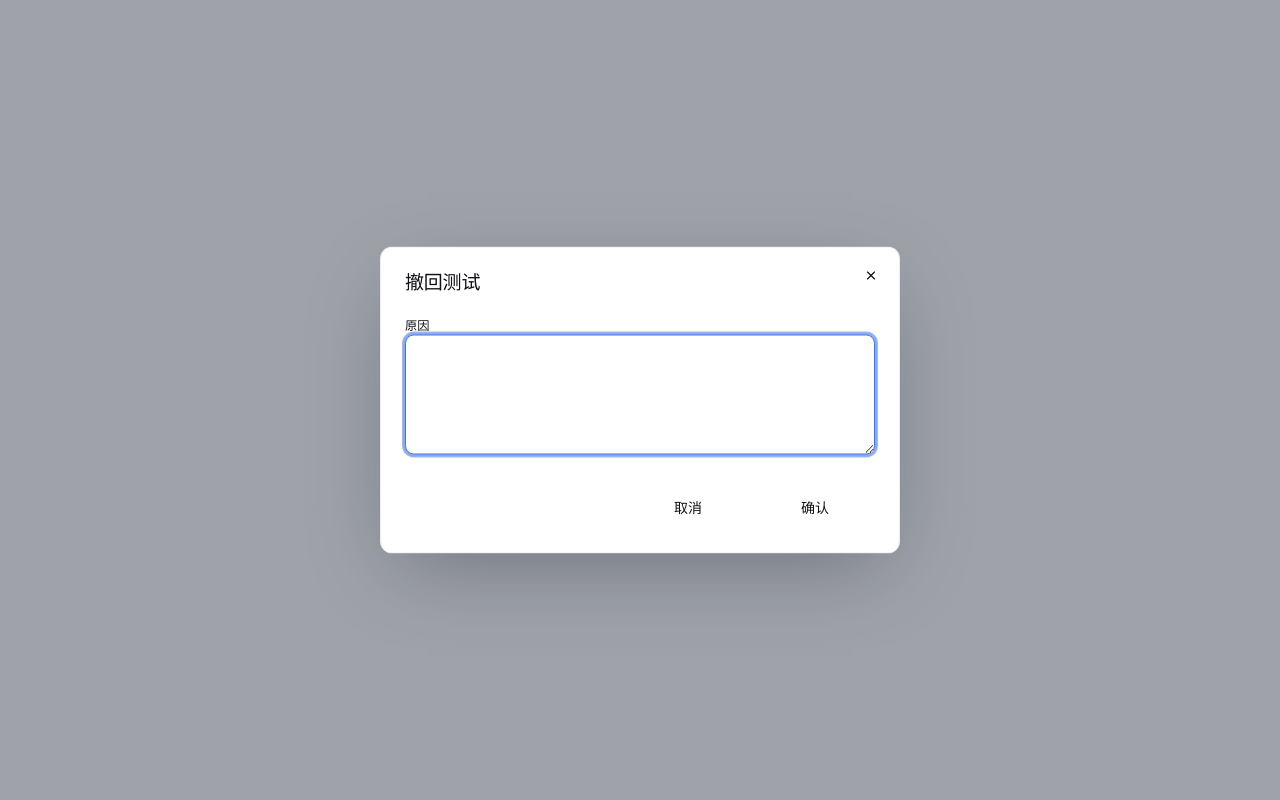
Test case: RequirementActionDialog › 原因类动作要求填写原因
Click the button "确认": click(815, 506) [755,484,875,528]
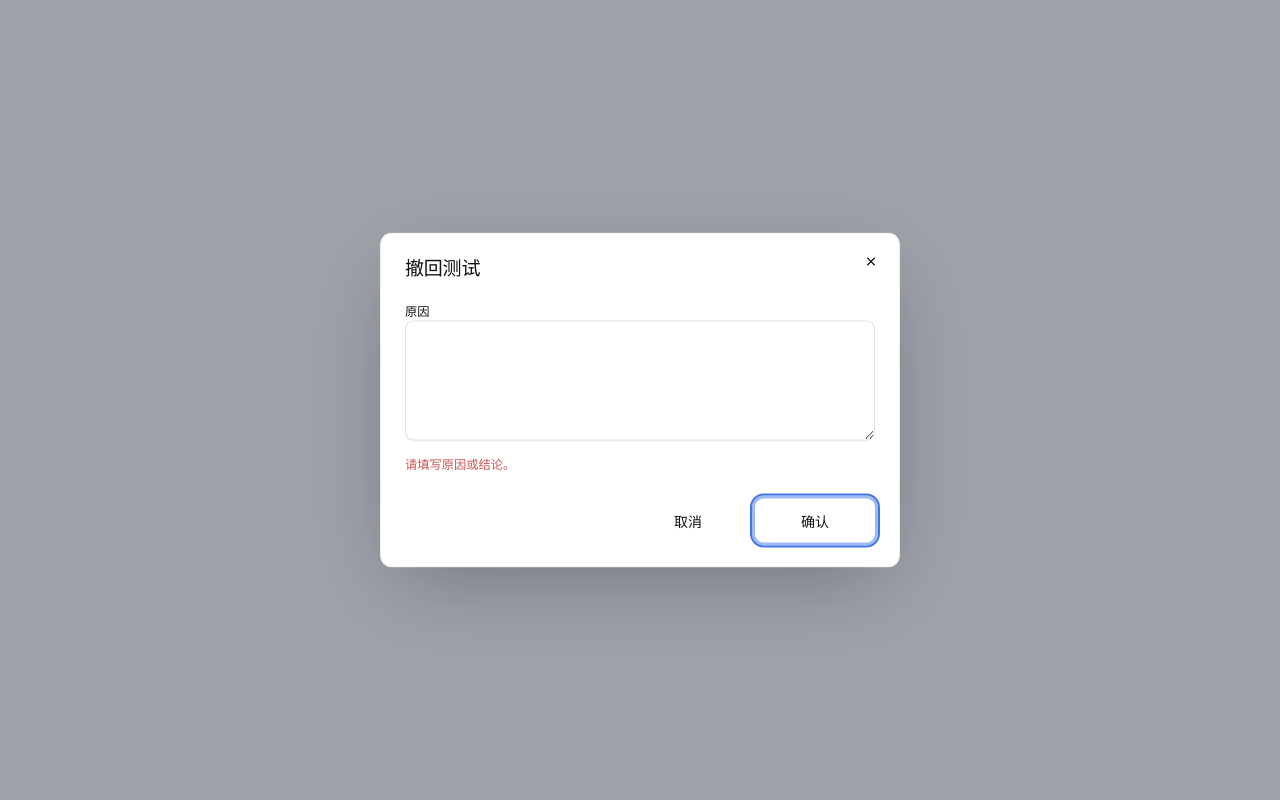
expect the message shows "请填写原因或结论": met, box [405,456,515,471]
